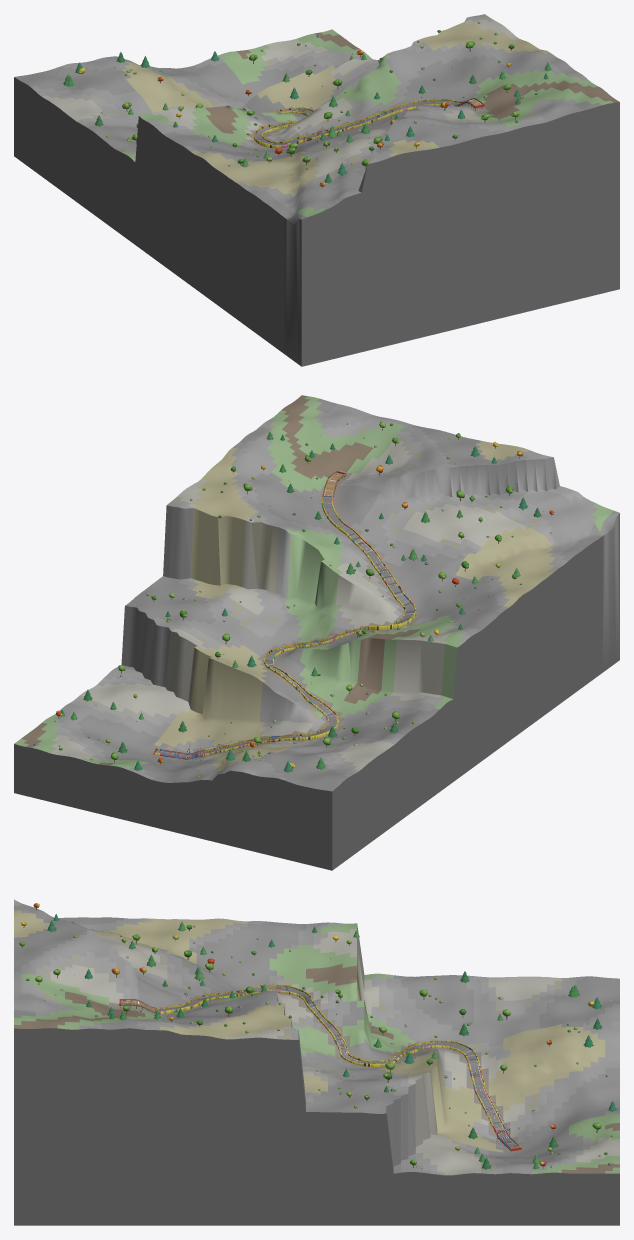
3 views of the same model, one above another, from view 1: azimuth 30°, elevation 25°; view 2: azimuth 150°, elevation 25°; view 3: azimuth 270°, elevation 25° (orthographic). The views are drawn at different scales.
Visible parts, largest first — view 1: grass, pines, hay, leafy trees, road; view 2: grass, hay, road, pines, leafy trees; view 3: grass, hay, road, pines, leafy trees, bushes.
Part boxes in pixels (x1,y1,x2,y2): grass: [14, 14, 619, 366]; pines: [63, 51, 551, 183]; hay: [254, 98, 484, 148]; leafy trees: [122, 41, 519, 166]; road: [255, 99, 481, 145]; grass: [14, 395, 619, 870]; hay: [153, 471, 416, 759]; road: [155, 472, 414, 757]; pines: [61, 431, 541, 772]; leafy trees: [105, 421, 516, 759]; grass: [14, 899, 619, 1225]; hay: [119, 983, 521, 1151]; road: [120, 986, 518, 1148]; pines: [47, 914, 616, 1169]; leafy trees: [19, 924, 601, 1165]; bushes: [26, 925, 613, 1158].
Bounding box in the file's own units: 265 × 157 × 415.
